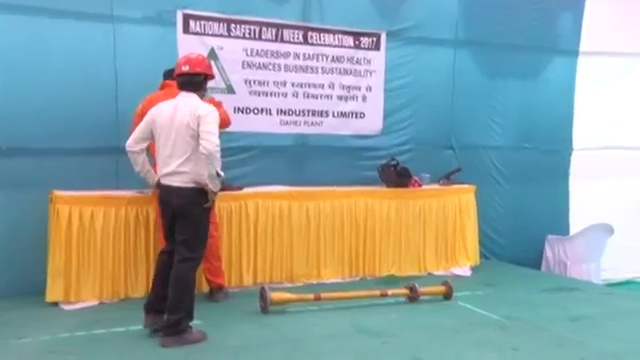helmet: (172, 50, 217, 81)
helmet_off: (160, 66, 177, 85)
helmet_on: (173, 50, 216, 99)
person: (124, 45, 227, 348)
